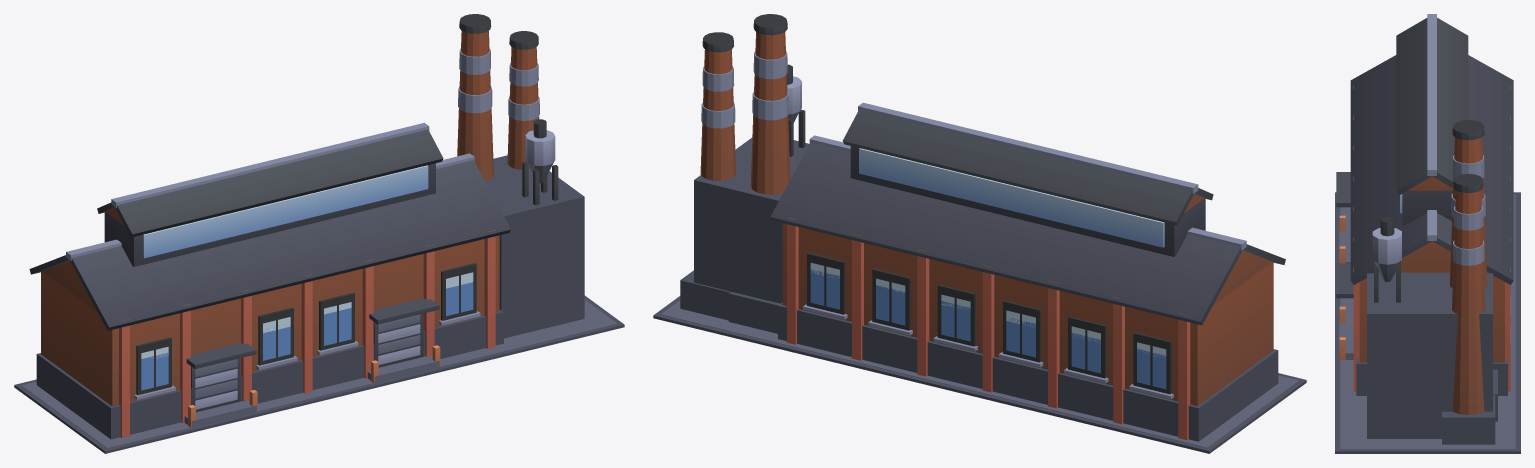
File: ind_red_foundry_3x1.glb
The picture shows the model from 3 angles, left to right: view 1: azimuth 30°, elevation 25°; view 2: azimuth 150°, elevation 25°; view 3: azimuth 270°, elevation 25°; orthographic projection. The views are drawn at different scales.
Parts seen in each view (by area): view 1: ind_red_foundry_3x1; view 2: ind_red_foundry_3x1; view 3: ind_red_foundry_3x1.
Boxes of the visible parts, left/top/right/bottom form: ind_red_foundry_3x1: left=14, top=14, right=624, bottom=453; ind_red_foundry_3x1: left=653, top=14, right=1306, bottom=453; ind_red_foundry_3x1: left=1335, top=14, right=1520, bottom=453.
Size of the model in its own units: 5.74 by 2.95 by 1.74.
Materials: 1 (1 with a texture image).
